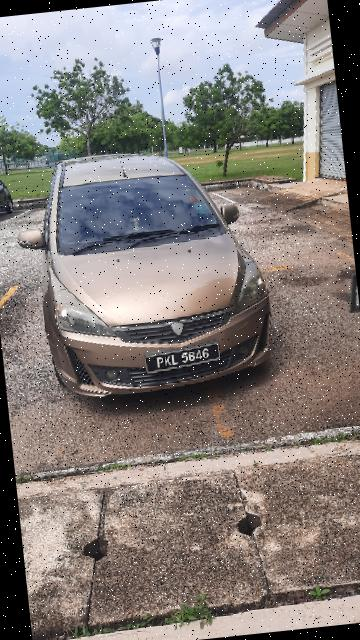License_Plate: (145, 339, 225, 375)
car: (7, 130, 285, 415)
